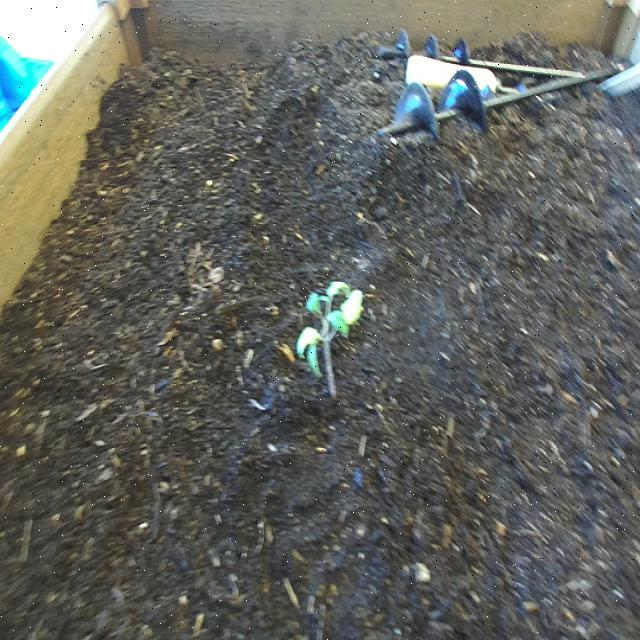Healthy: (296, 279, 364, 404)
